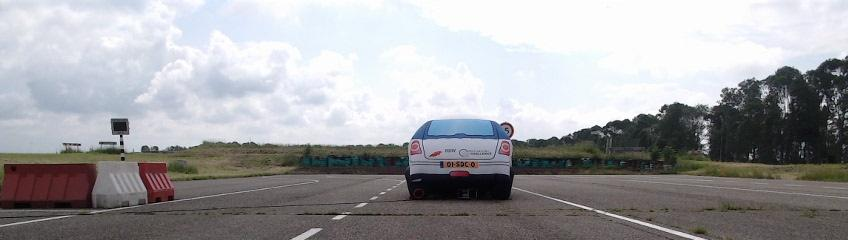Car: (404, 119, 514, 201)
Speed-limit-15km-h-: (499, 122, 514, 138)
